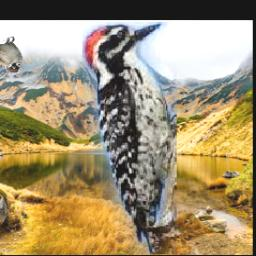Sparrow: (0, 36, 22, 72)
Woodpecker: (82, 23, 177, 255)
